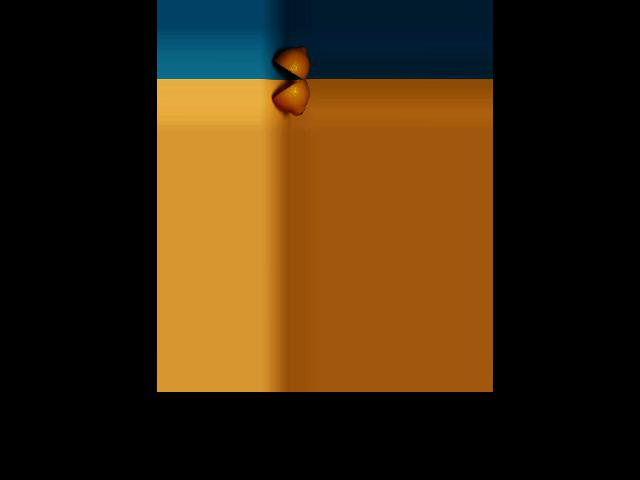lemon: (270, 41, 311, 80)
